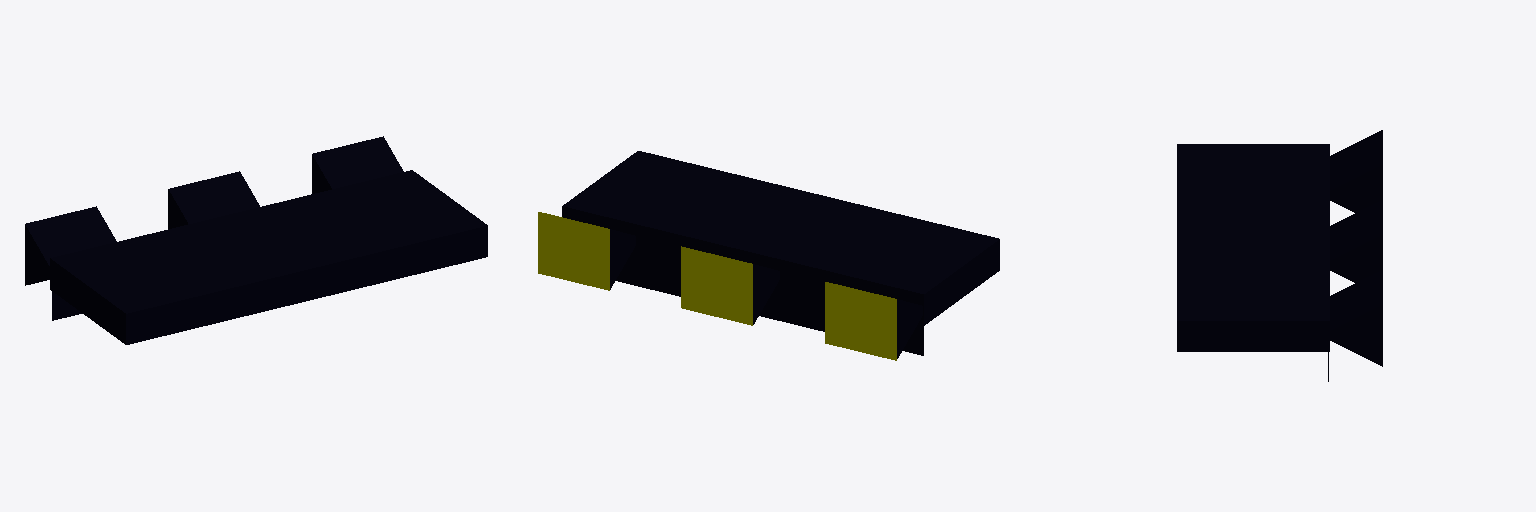
File: PlatformFinalLevel.obj
3 views of the same model, side by side, from view 1: azimuth 30°, elevation 25°; view 2: azimuth 150°, elevation 25°; view 3: azimuth 270°, elevation 25° (orthographic).
Visible parts, largest first — view 1: pCube1; view 2: pCube1; view 3: pCube1.
Boxes of the visible parts, x1,y1,x2,y2 form: pCube1: [25, 136, 487, 344]; pCube1: [538, 151, 999, 360]; pCube1: [1177, 130, 1382, 381].
Bounding box in the file's own units: 2.75 × 0.5587 × 1.35.